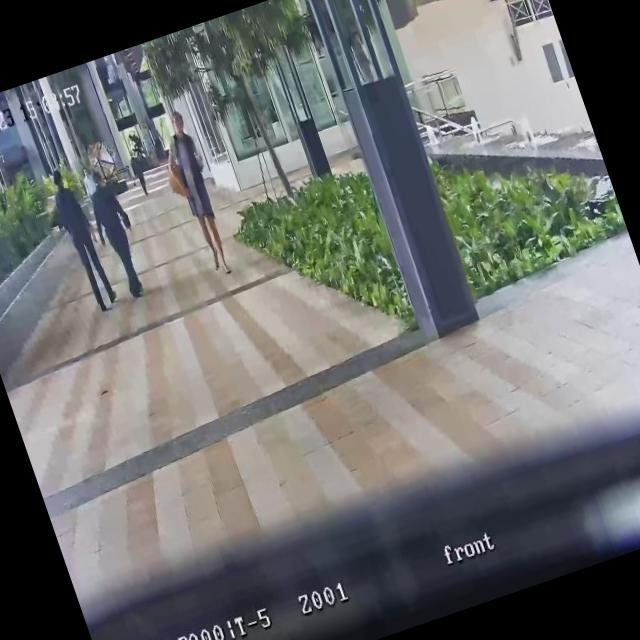person: (156, 108, 241, 280), (45, 166, 121, 314), (79, 164, 155, 304), (130, 154, 151, 196), (79, 166, 101, 200)
